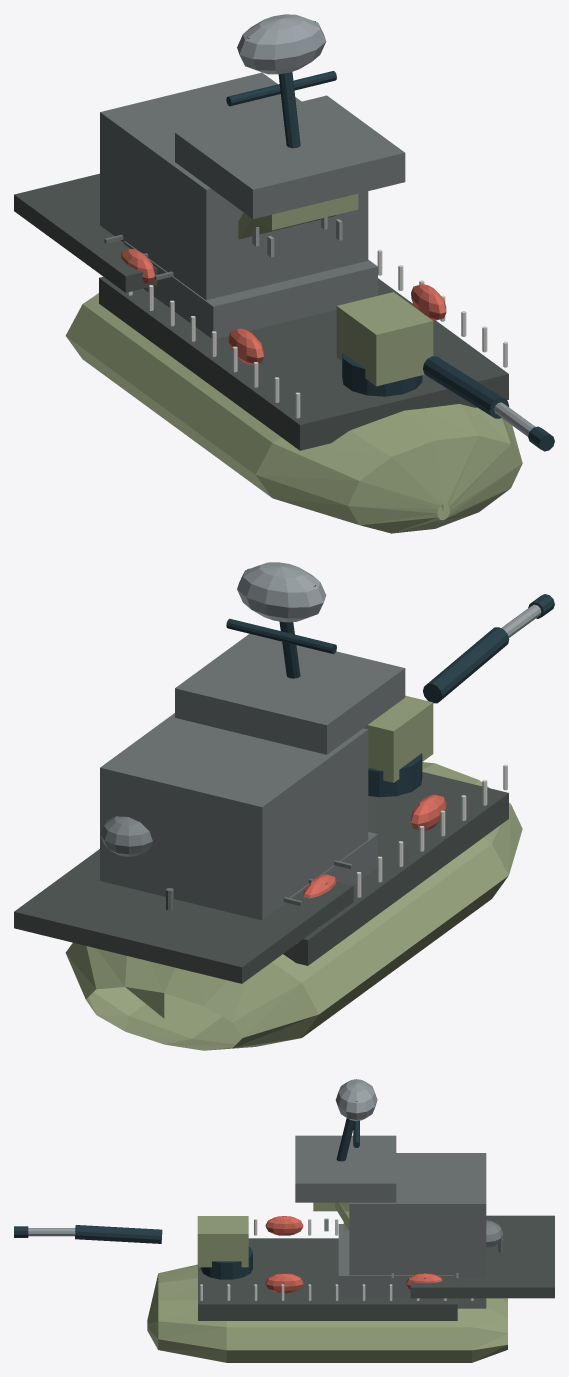
File: kapal-amfibi-kelas-makassar.glb
3 renders of one model, top to bottom at view 1: azimuth 30°, elevation 25°; view 2: azimuth 150°, elevation 25°; view 3: azimuth 270°, elevation 25°, orthographic. The views are drawn at different scales.
Visible parts, largest first — view 1: kapal-amfibi-kelas-makassar; view 2: kapal-amfibi-kelas-makassar; view 3: kapal-amfibi-kelas-makassar.
Boxes of the visible parts, x1,y1,x2,y2 form: kapal-amfibi-kelas-makassar: (14, 14, 554, 533); kapal-amfibi-kelas-makassar: (14, 562, 554, 1050); kapal-amfibi-kelas-makassar: (14, 1079, 554, 1362).
Bounding box in the file's own units: 1.44 × 2.21 × 4.12.
